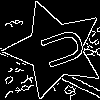U: (30, 24, 88, 75)
